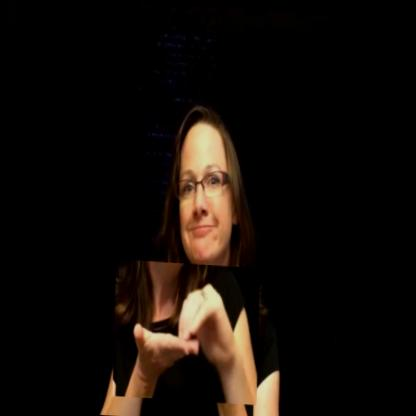ExcuseMe: (111, 258, 261, 404)
